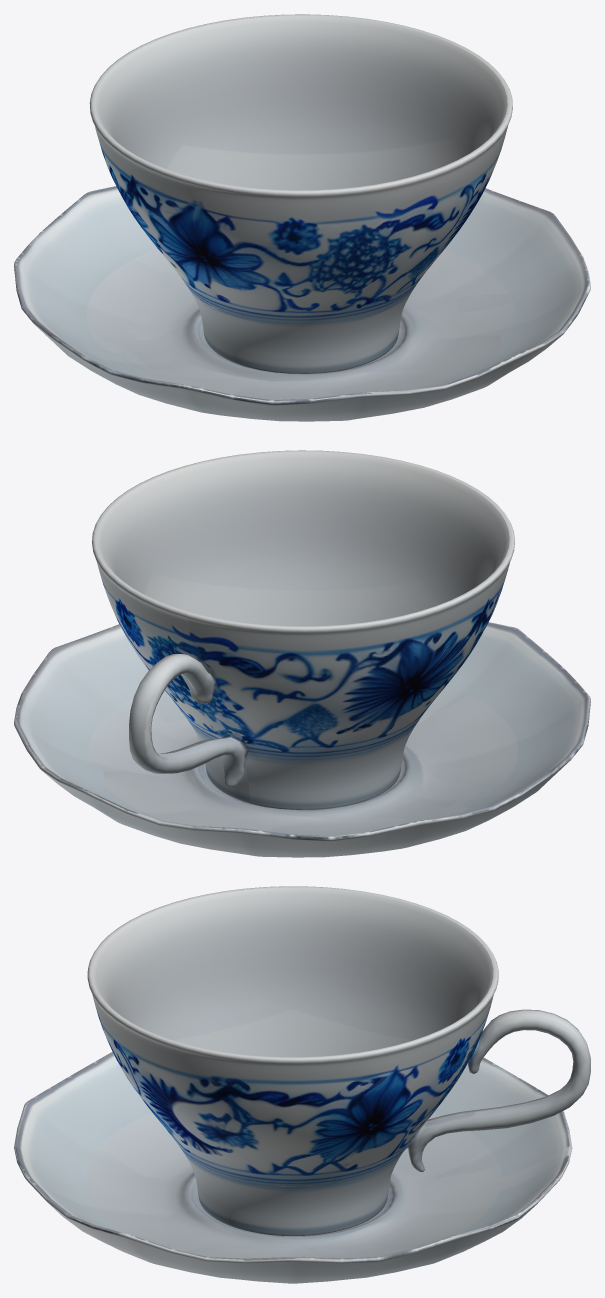
3 renders of one model, top to bottom at view 1: azimuth 30°, elevation 25°; view 2: azimuth 150°, elevation 25°; view 3: azimuth 270°, elevation 25°, orthographic. The views are drawn at different scales.
Parts seen in each view (by area): view 1: texture_v100.007; view 2: texture_v100.007; view 3: texture_v100.007.
Boxes of the visible parts, x1,y1,x2,y2 form: texture_v100.007: (14, 14, 590, 421); texture_v100.007: (14, 450, 590, 857); texture_v100.007: (14, 886, 590, 1283).
Bounding box in the file's own units: 1.95 × 0.945 × 2.
Materials: 1 (1 with a texture image).
